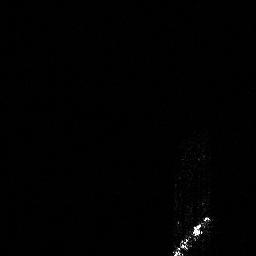ship: (169, 211, 214, 256)
